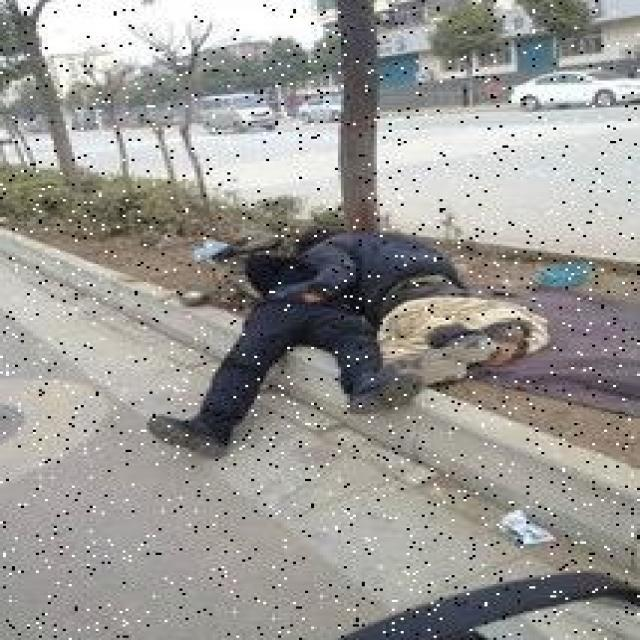fall: (140, 242, 418, 463)
